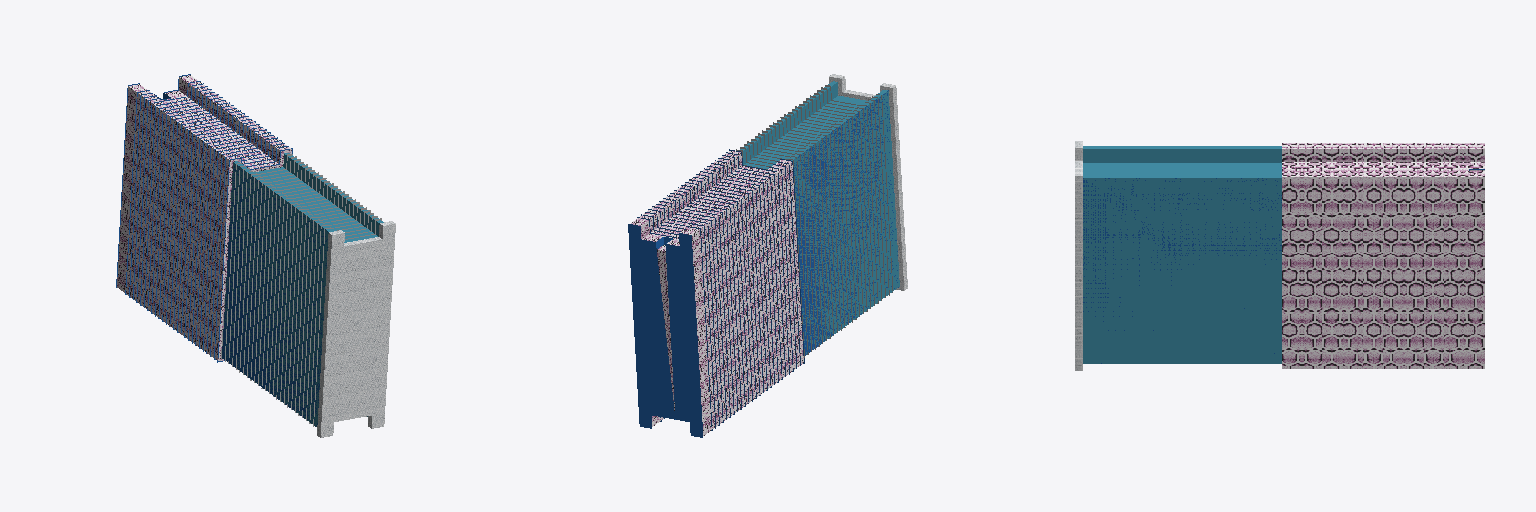
The picture shows the model from 3 angles: view 1: azimuth 30°, elevation 25°; view 2: azimuth 150°, elevation 25°; view 3: azimuth 270°, elevation 25°; orthographic projection.
Parts seen in each view (by area): view 1: walls, Roof_01, Mid_lvl_G1, slab, Mid_lvl_G02, Mid_lvl_01; view 2: walls, slab, Mid_lvl_G1, Mid_lvl_01, Mid_lvl_G02, Roof_01; view 3: walls, Mid_lvl_G1, Roof_01, Mid_lvl_G02.
Part boxes in pixels (bbox=[...]): walls: bbox=[117, 75, 291, 360]; Roof_01: bbox=[317, 221, 395, 437]; Mid_lvl_G1: bbox=[224, 153, 383, 426]; slab: bbox=[116, 74, 292, 362]; Mid_lvl_G02: bbox=[222, 166, 327, 426]; Mid_lvl_01: bbox=[221, 154, 381, 426]; walls: bbox=[631, 151, 803, 435]; slab: bbox=[628, 149, 804, 437]; Mid_lvl_G1: bbox=[740, 81, 899, 353]; Mid_lvl_01: bbox=[736, 85, 892, 357]; Mid_lvl_G02: bbox=[794, 90, 898, 355]; Roof_01: bbox=[829, 74, 907, 290]; walls: bbox=[1282, 143, 1484, 368]; Mid_lvl_G1: bbox=[1083, 146, 1281, 363]; Roof_01: bbox=[1075, 141, 1082, 370]; Mid_lvl_G02: bbox=[1083, 178, 1281, 363].
Bounding box in the file's own units: 830 × 2146 × 3897.
5 materials, 2 textured.